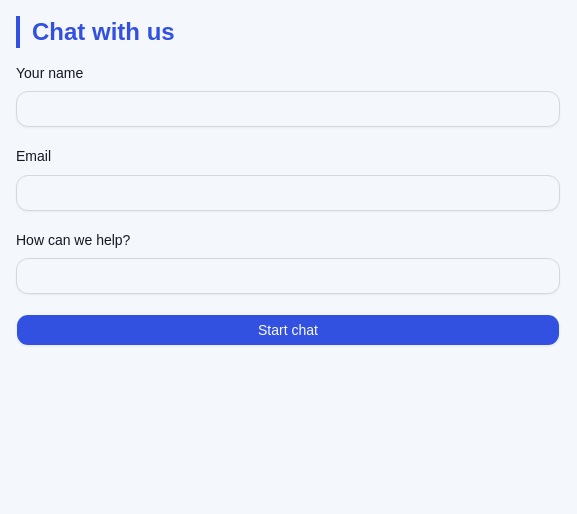
Scenario: Live chat widget › falls back to the offline form when starting is refused with 409
Type "Nour" into the field labelled "Your name". click: (288, 109)
box: [16,91,560,127]
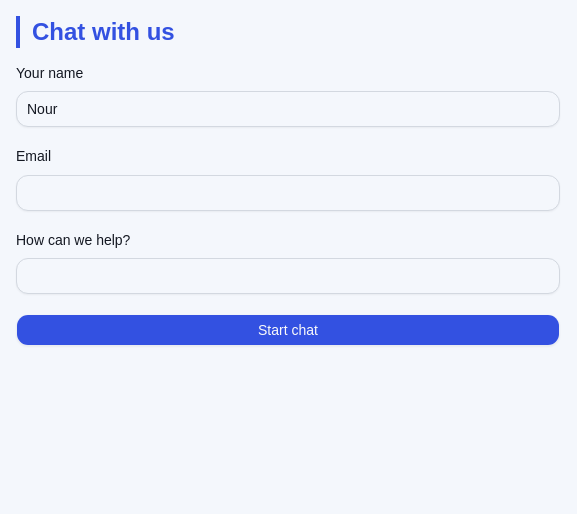
Type "n@x.example" into the field labelled "Email". click: (288, 192)
box: [16,174,560,210]
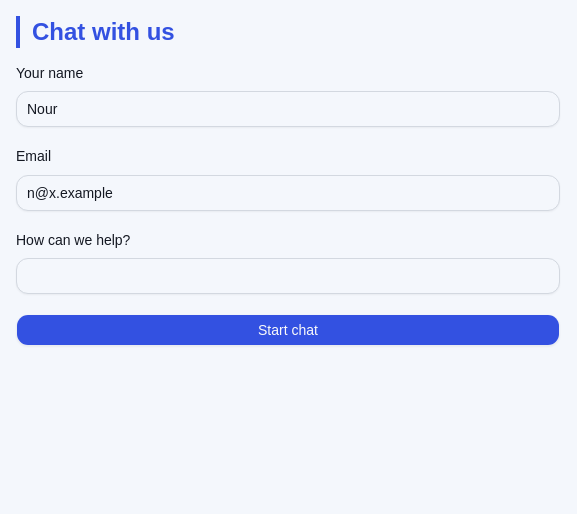
Click the button "Start chat". click: (288, 330)
box: [16,314,560,346]
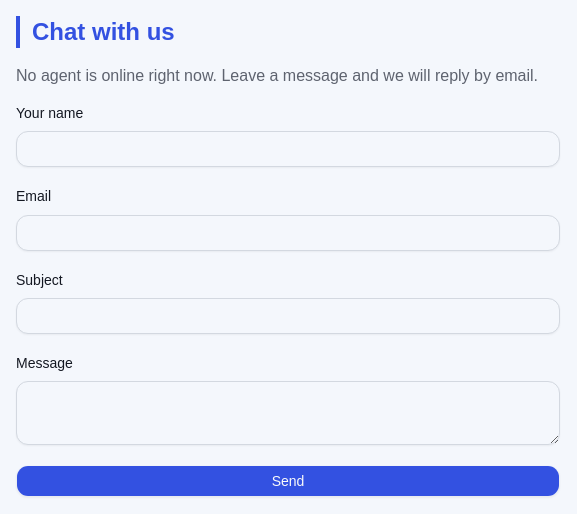
Expected: the field labelled "Subject" is shown, [16,298,560,334]
